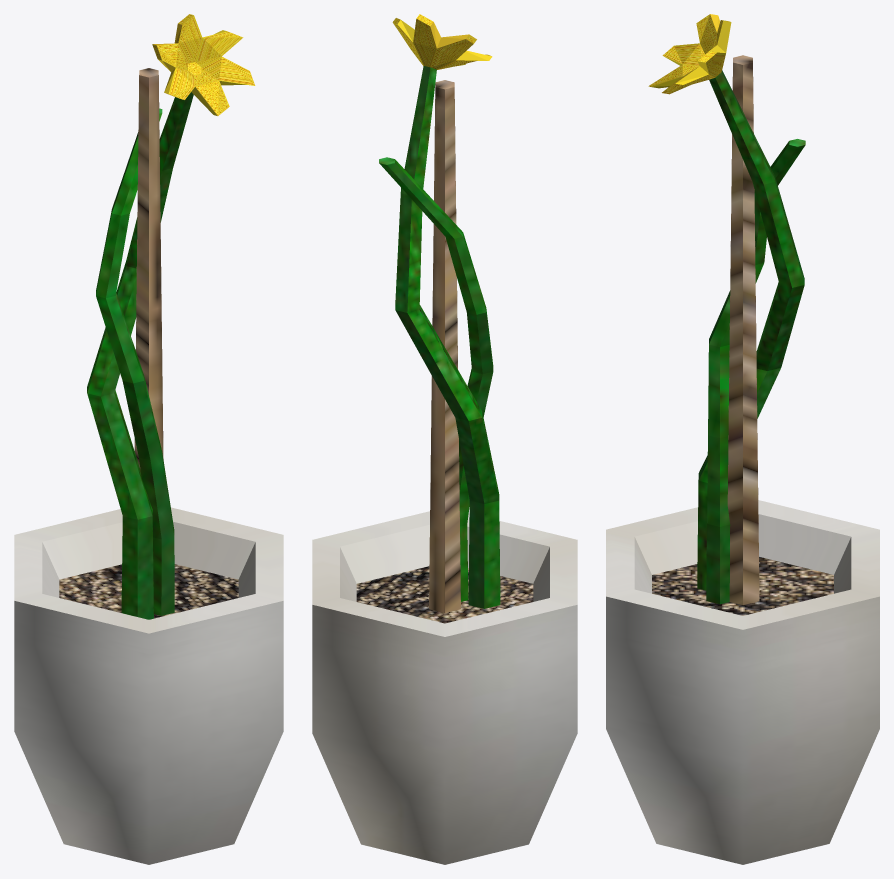
File: storczyk.FBX
3 views of the same model, side by side, from view 1: azimuth 30°, elevation 25°; view 2: azimuth 150°, elevation 25°; view 3: azimuth 270°, elevation 25° (orthographic). The views are drawn at different scales.
Parts seen in each view (by area): view 1: Cylinder001, Object002, Object003, Object001, Object005, Object004; view 2: Cylinder001, Object002, Object001, Object003, Object004, Object005; view 3: Cylinder001, Object001, Object002, Object003, Object004, Object005.
Part boxes in pixels (x1,y1,x2,y2): Cylinder001: (14,507,283,864); Object002: (87,92,193,619); Object003: (96,108,174,615); Object001: (134,68,163,468); Object005: (152,14,255,115); Object004: (59,564,238,618); Cylinder001: (312,511,577,864); Object002: (395,66,500,608); Object001: (429,80,460,612); Object003: (379,157,493,601); Object004: (356,566,533,623); Object005: (392,14,492,69); Cylinder001: (606,500,879,864); Object001: (727,55,759,604); Object002: (697,70,804,590); Object003: (706,139,805,604); Object004: (652,557,833,615); Object005: (648,14,731,94).
Size of the model in its own units: 46.22 by 132 by 40.03.
5 materials, 5 textured.
